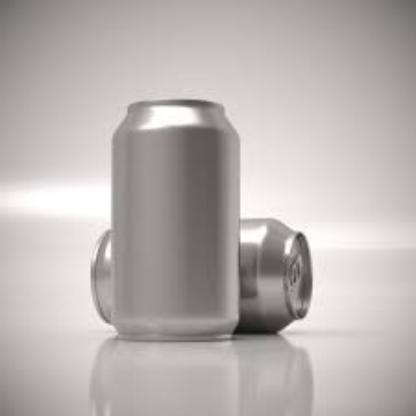Can: (112, 100, 238, 340), (90, 215, 312, 335)
